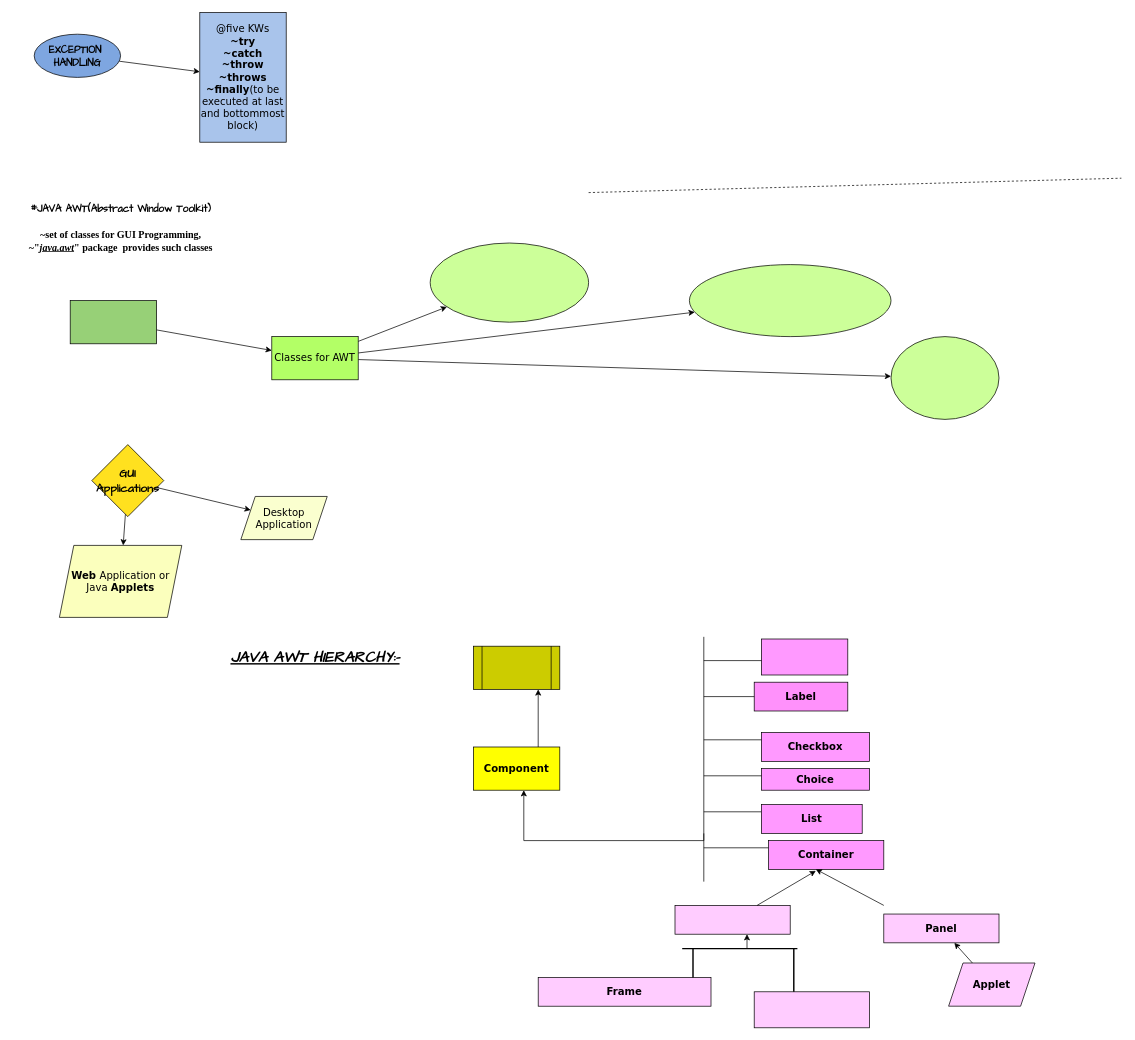
Image size: 1135x1040. Some labels were removed from this diagram. The centre of each missing label's shape, as x and y in pixels:
" java.awt " package: the point at 113,322
Button: the point at 804,656
Components ~ for user interaction ~e.g. TextField,Checkbox,Choice,Menu: the point at 790,300
Containers ~e.g. Frame, Panel,Window, Dialog,Applet: the point at 509,282
Dialog: the point at 811,1009
Object: the point at 516,667
Supporting Classes ~e.g. Color,Font,Dimension: the point at 944,377
Window: the point at 732,919
